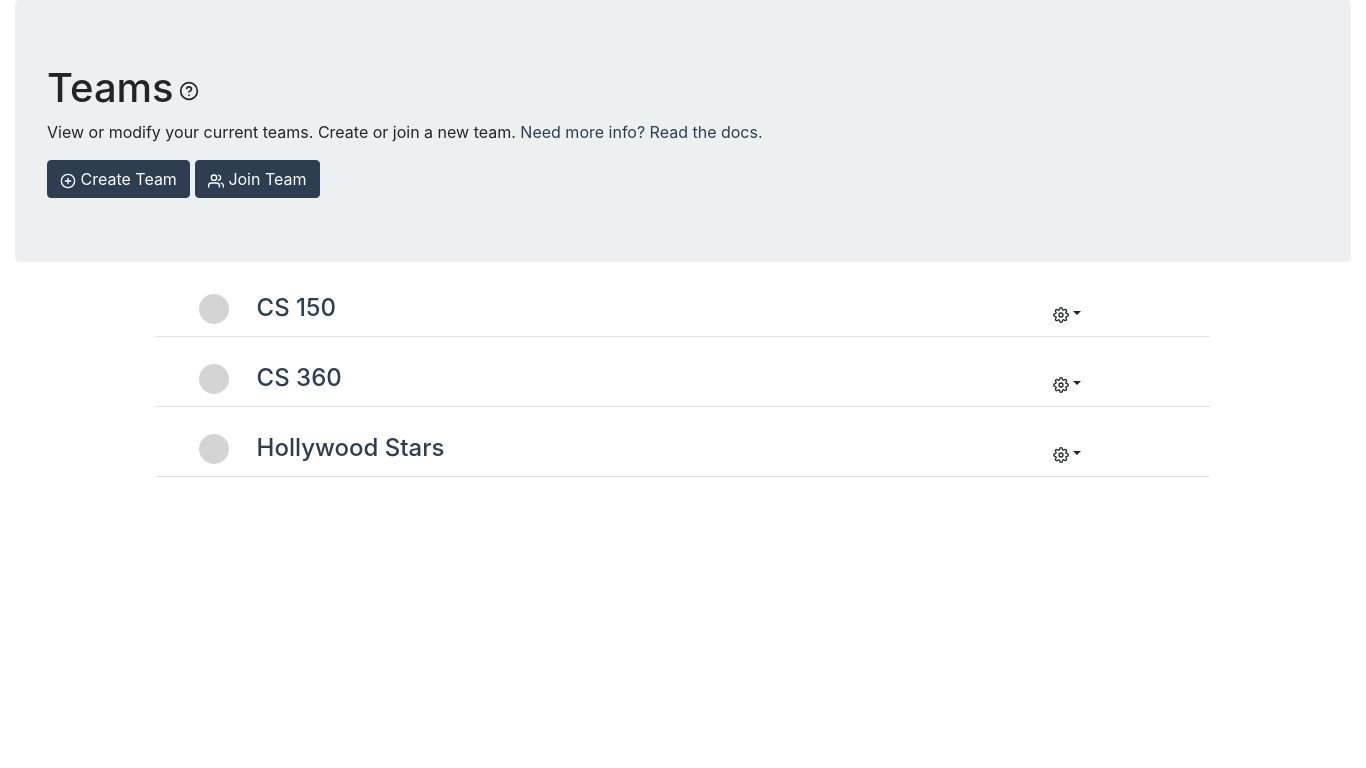
it: Tests with successful API data › Team join tests › Verify join modal errors
Click the button "Join Team" at (257,179), box [195,160,320,198]
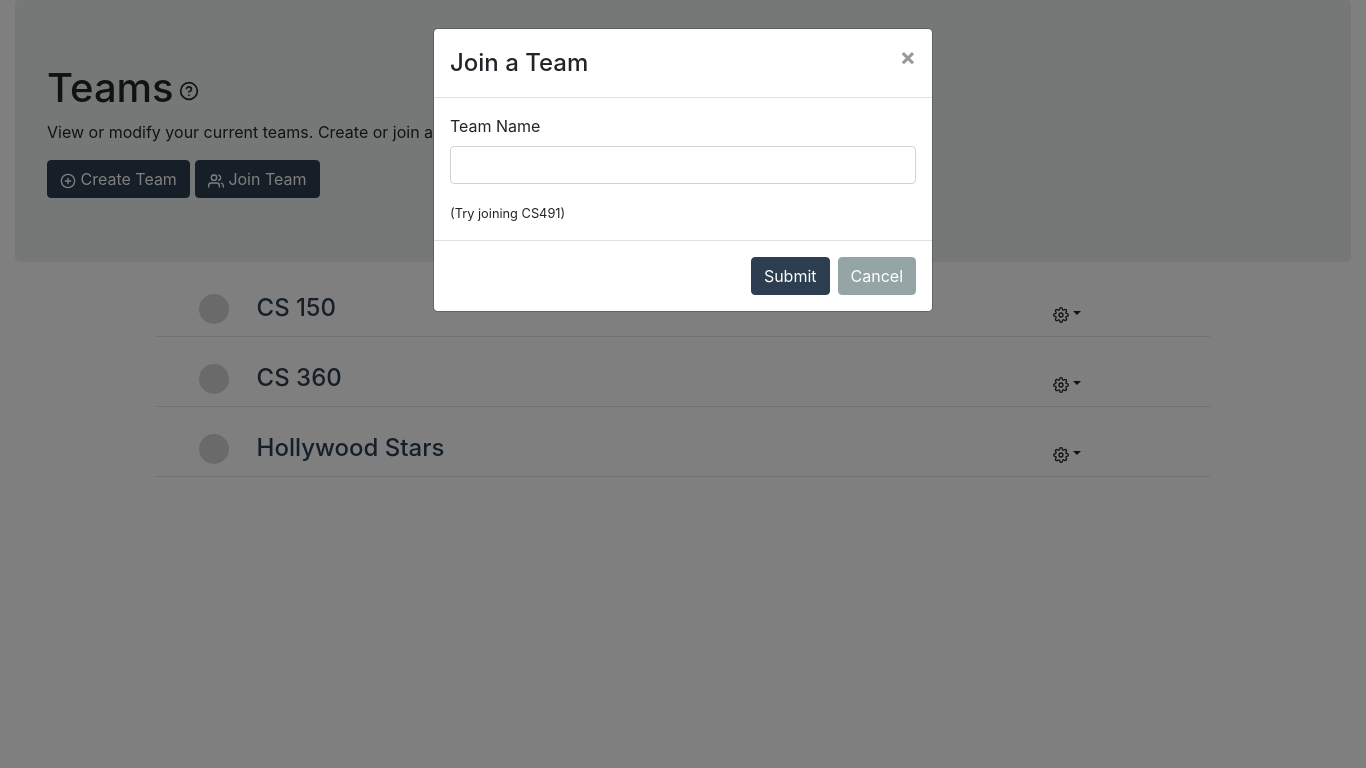
Expected: the text "Join a Team" is shown, [450,45,588,81]
Type "CS 150" into the field labelled "Team Name" at (683,165), box [450,146,916,184]
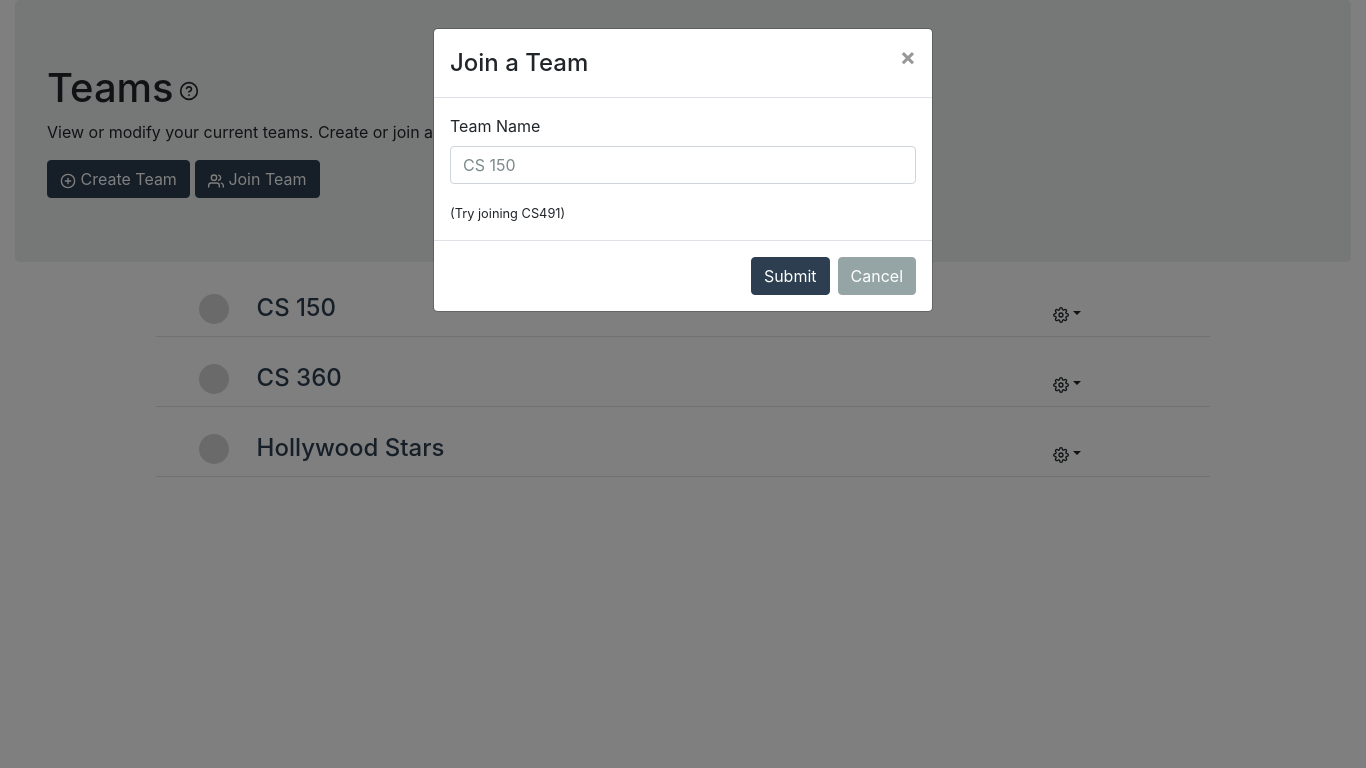
Click the button "Submit" at (790,276), box [751,257,830,295]
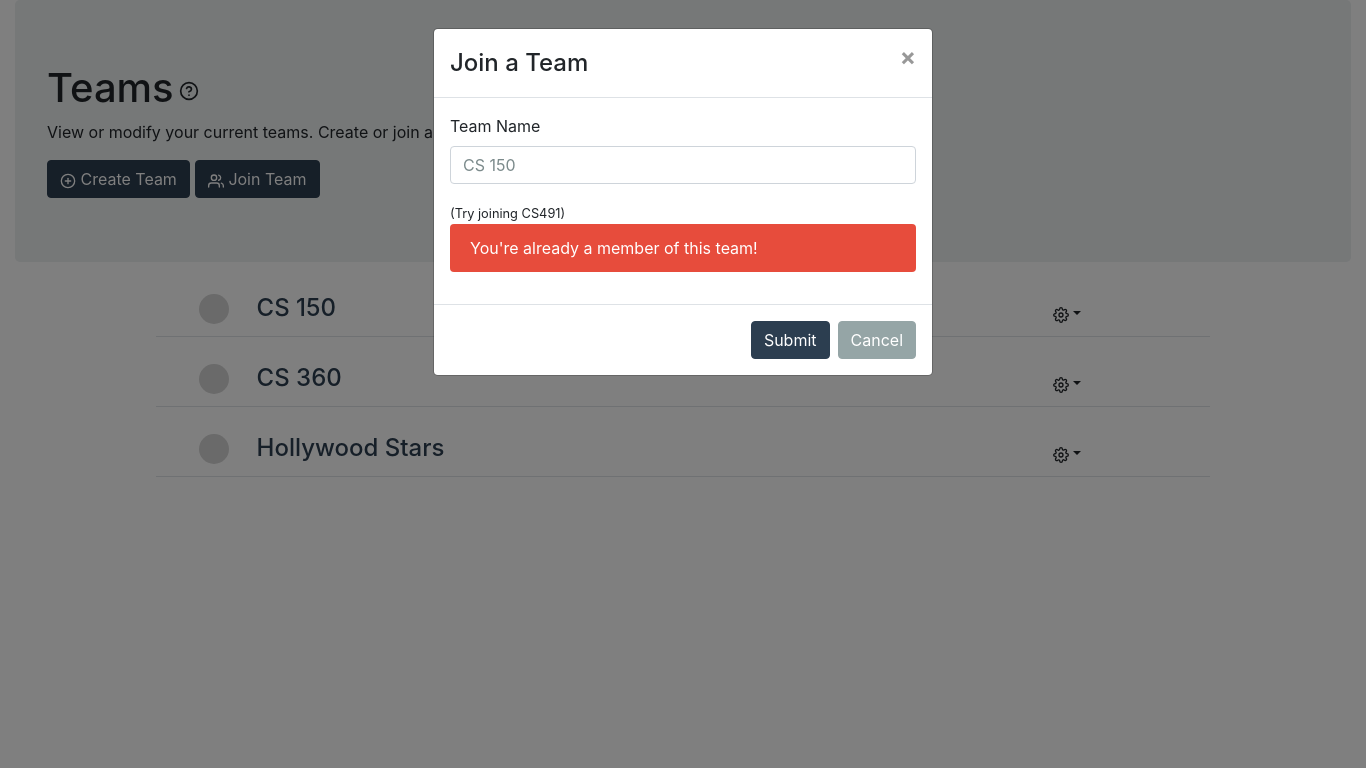
Expected: the text "You're already a member of this team!" is shown, [450,224,916,272]
Replace the text in the field labelled "Team Name" with "Nonexistent Team!" at (683,165), box [450,146,916,184]
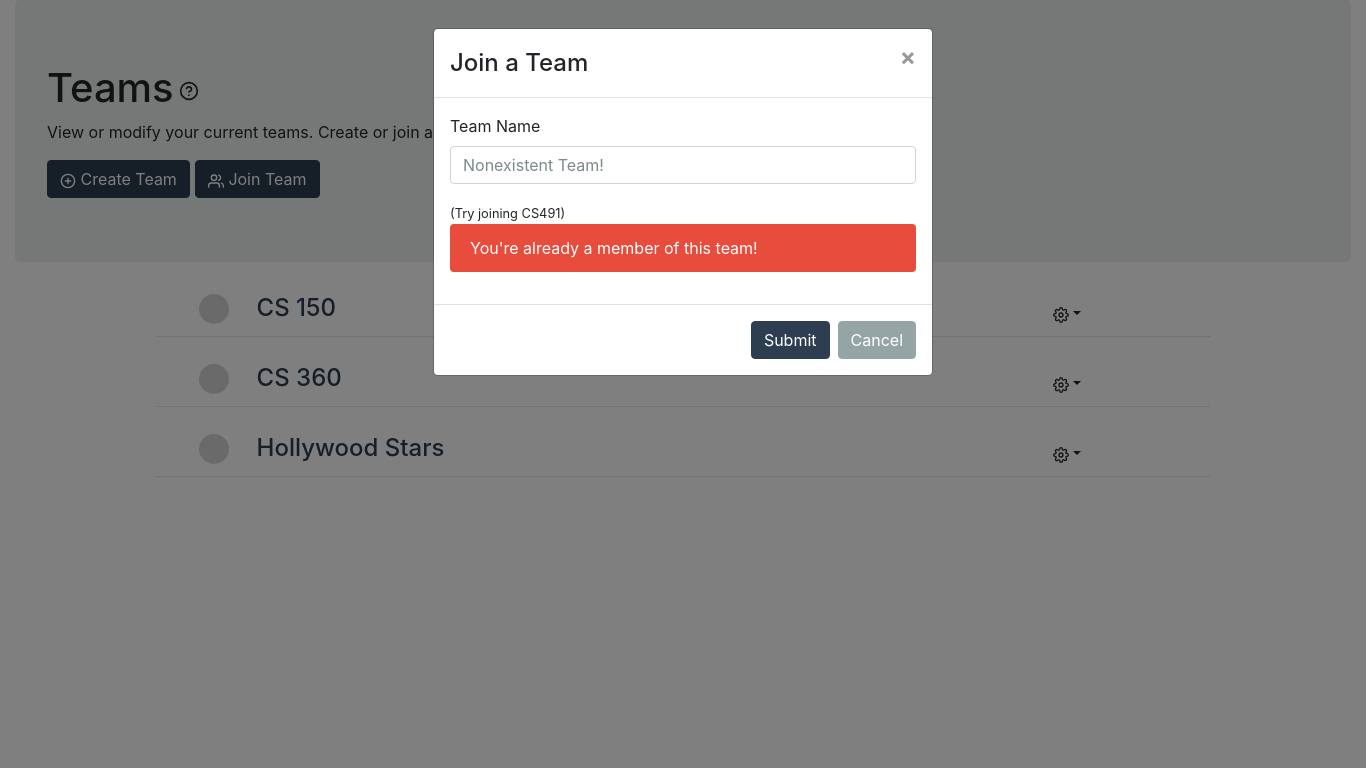
Click the button "Submit" at (790,340), box [751,321,830,359]
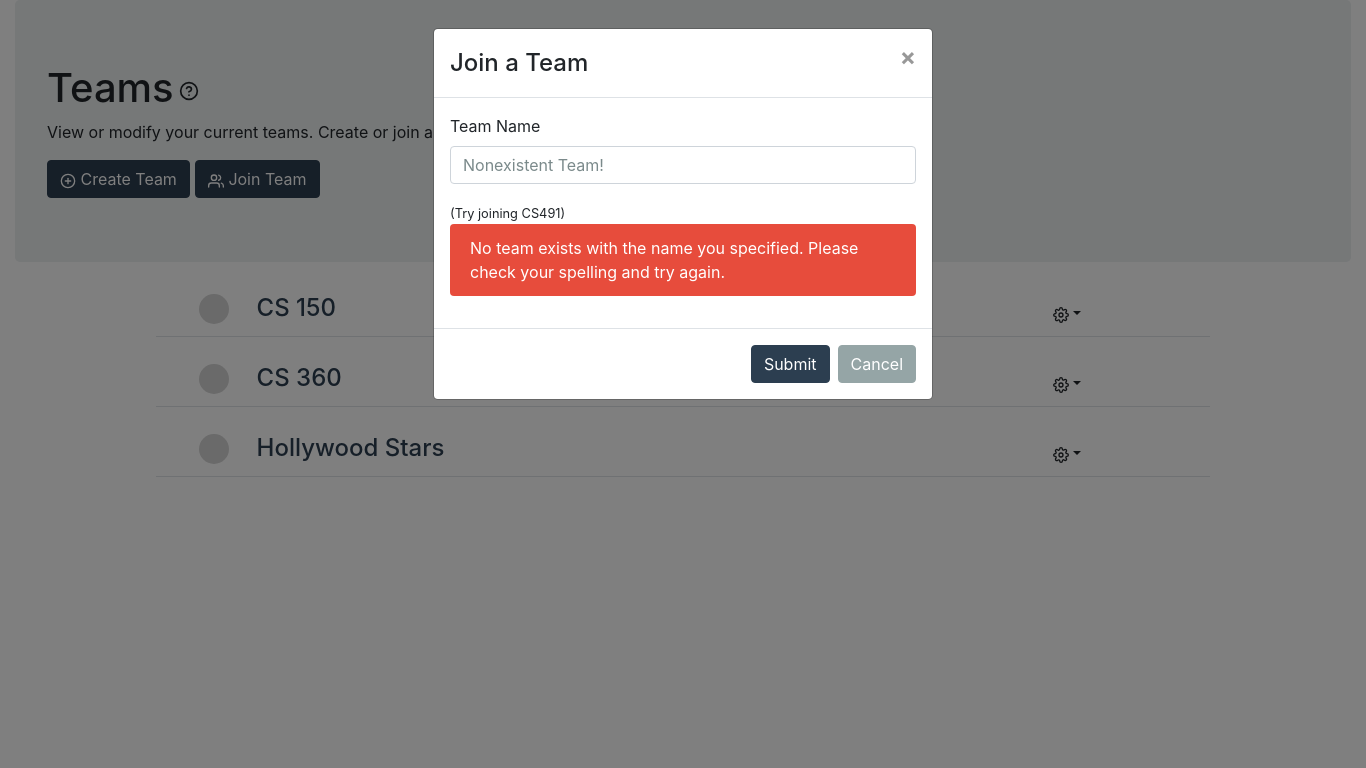
Expected: the text "No team exists with the name you specified. Please check your spelling and try again." is shown, [470,238,858,282]
